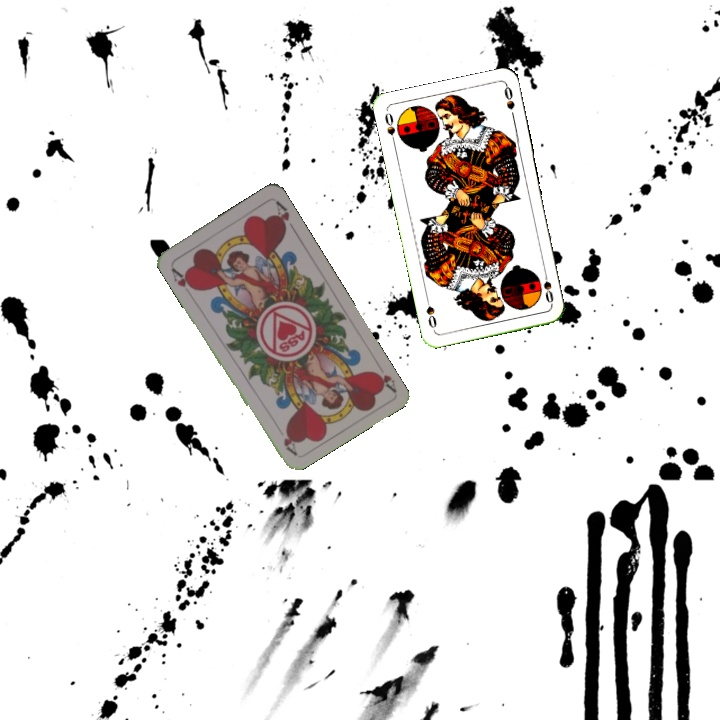HA: (369, 358, 399, 394), (167, 263, 199, 293)
SO: (539, 267, 556, 307), (381, 108, 398, 148)
